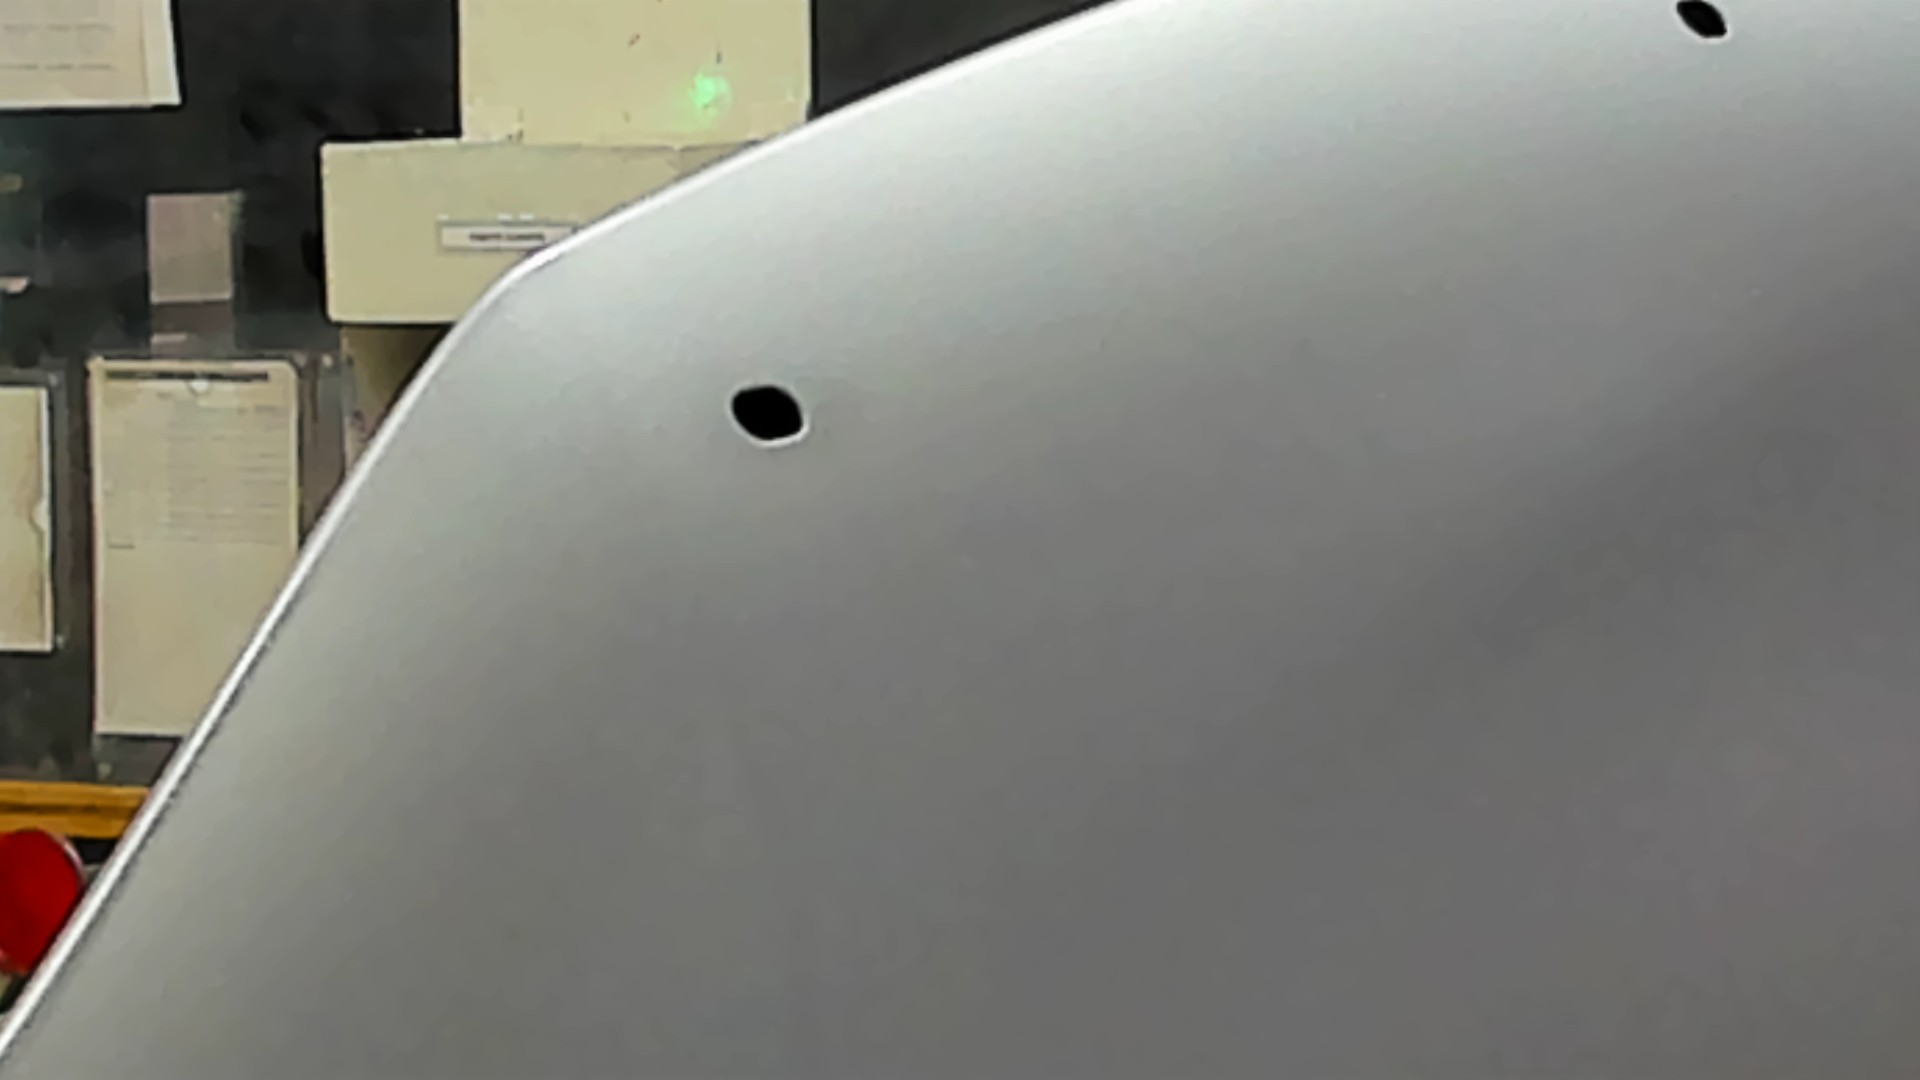chico: (720, 381, 819, 451), (1656, 1, 1738, 45)
